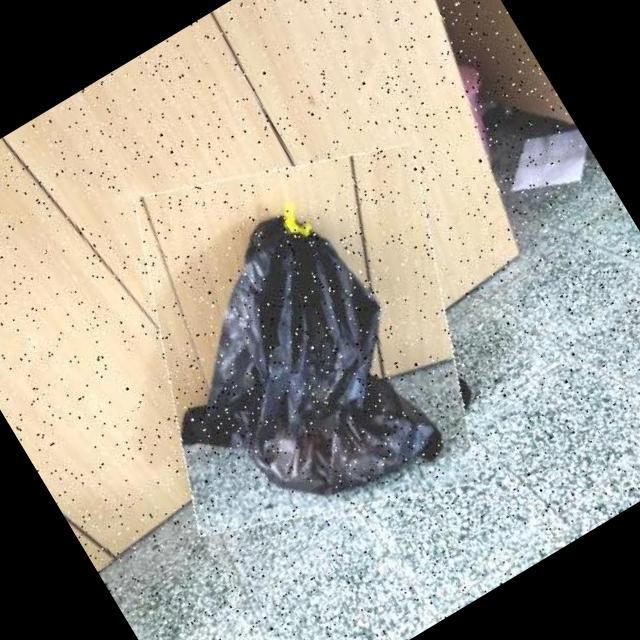KantongPlastik: (102, 188, 464, 566)
